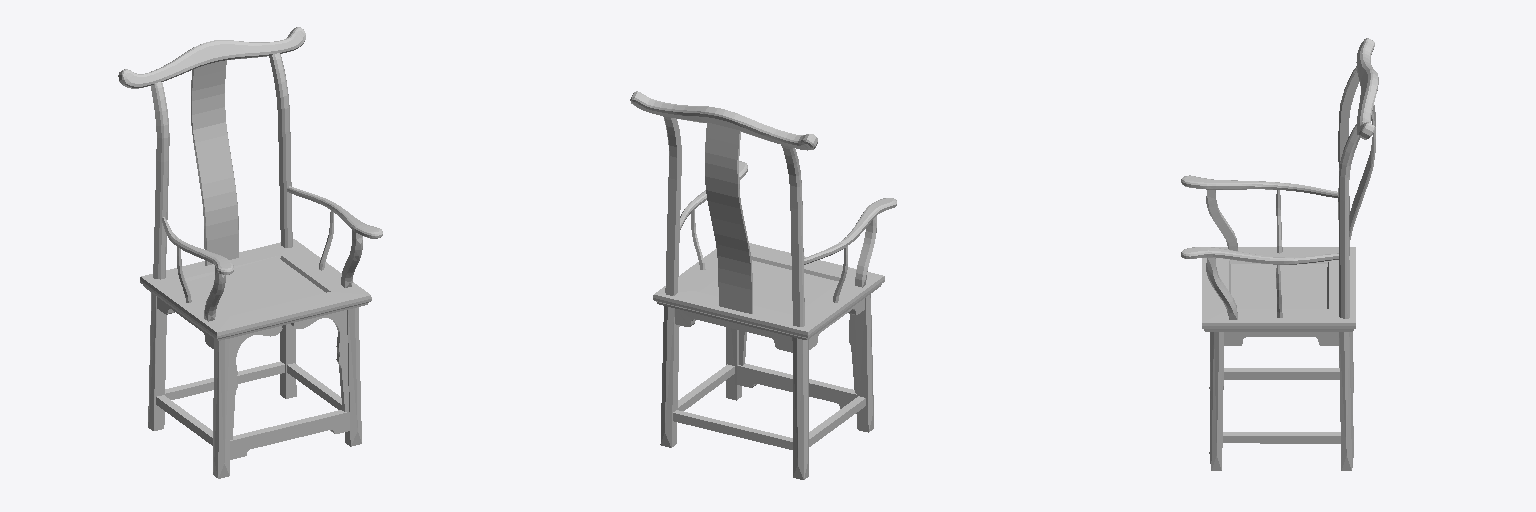
File: chinese_armchair_4k.obj
3 renders of one model, left to right at view 1: azimuth 30°, elevation 25°; view 2: azimuth 150°, elevation 25°; view 3: azimuth 270°, elevation 25°, orthographic.
Parts seen in each view (by area): view 1: chinese_armchair; view 2: chinese_armchair; view 3: chinese_armchair.
Boxes of the visible parts, x1,y1,x2,y2 form: chinese_armchair: [118, 27, 382, 478]; chinese_armchair: [630, 91, 896, 479]; chinese_armchair: [1181, 38, 1378, 470].
Size of the model in its own units: 0.8483 by 1.59 by 0.7887.